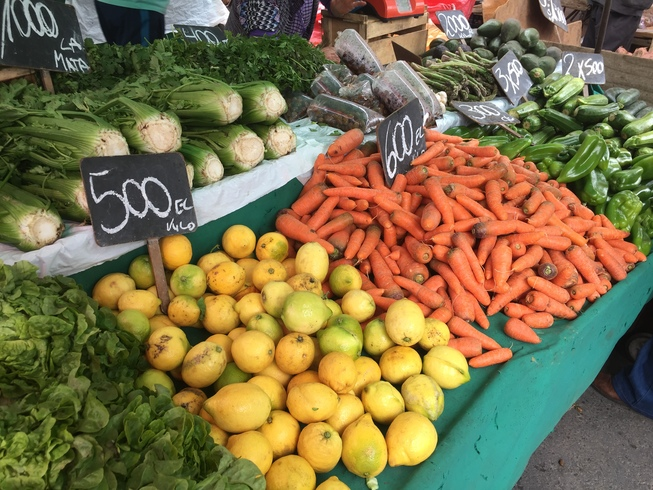precio: (76, 141, 210, 260), (1, 1, 100, 80), (365, 93, 441, 188), (447, 94, 523, 141), (488, 48, 541, 110), (168, 15, 240, 57), (562, 49, 611, 94), (430, 3, 474, 49), (534, 1, 576, 36)
